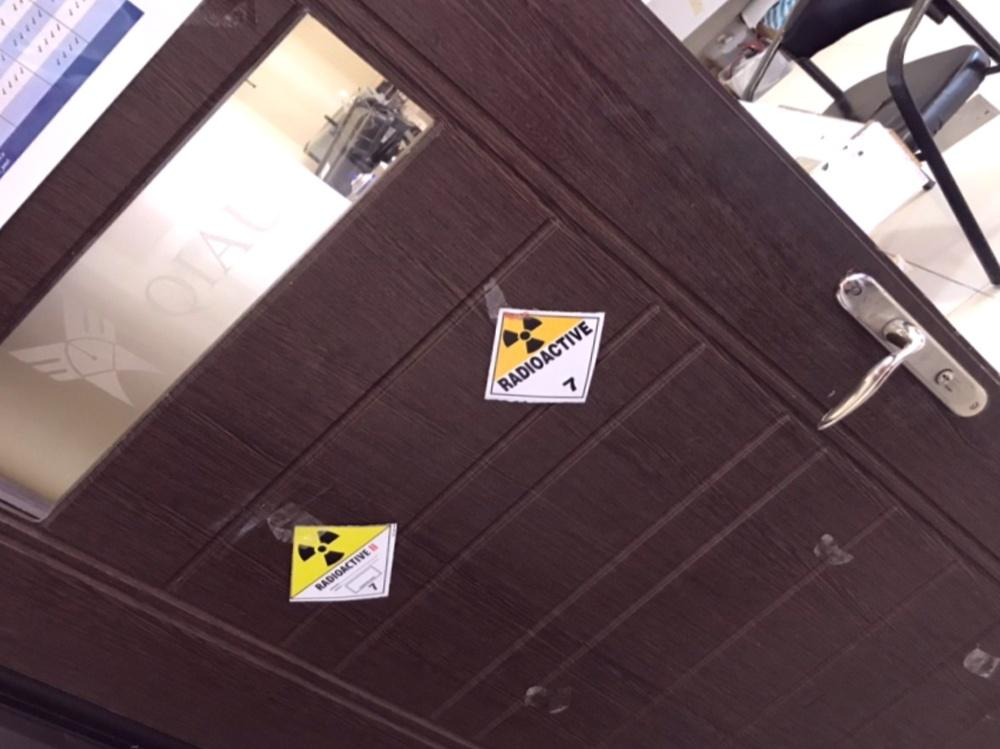radioactive: (485, 306, 604, 402), (289, 521, 398, 602)
